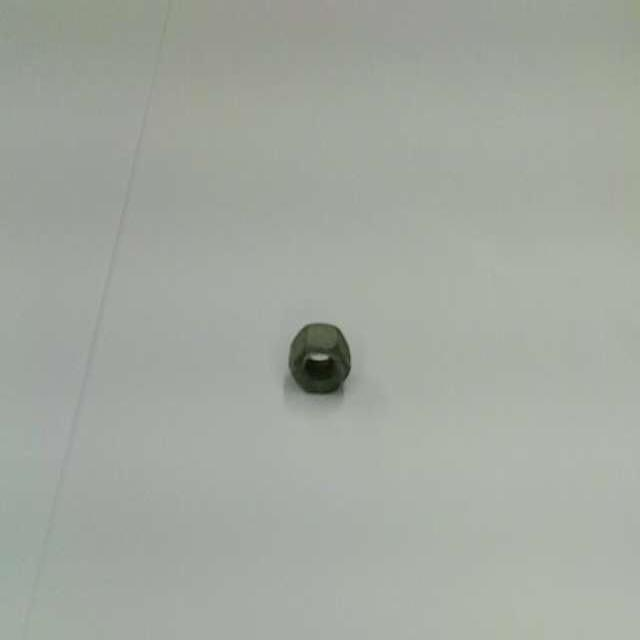Porca: (290, 324, 350, 392)
